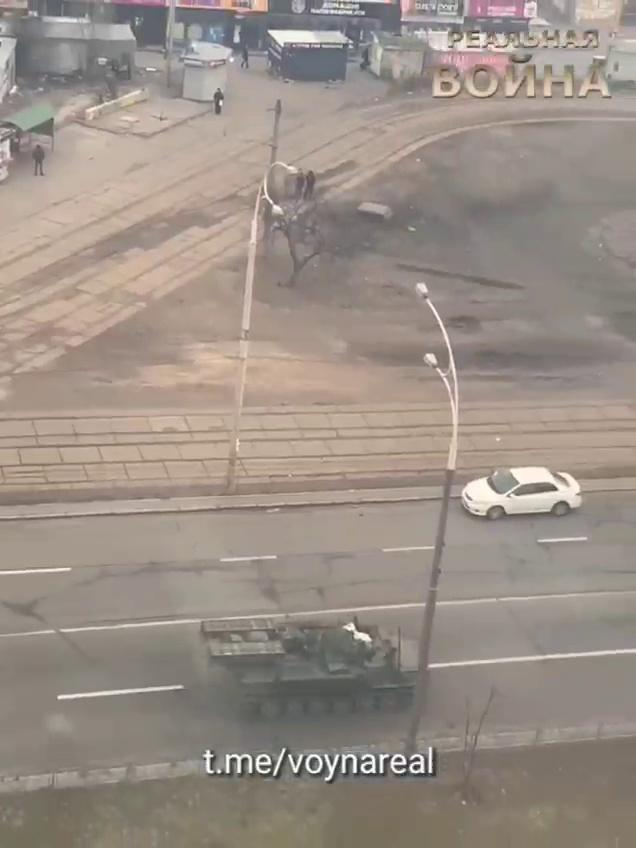car: (460, 466, 583, 521)
person: (32, 145, 46, 176), (302, 170, 315, 200), (213, 88, 224, 114), (240, 44, 250, 70)
tank: (199, 615, 428, 719)
